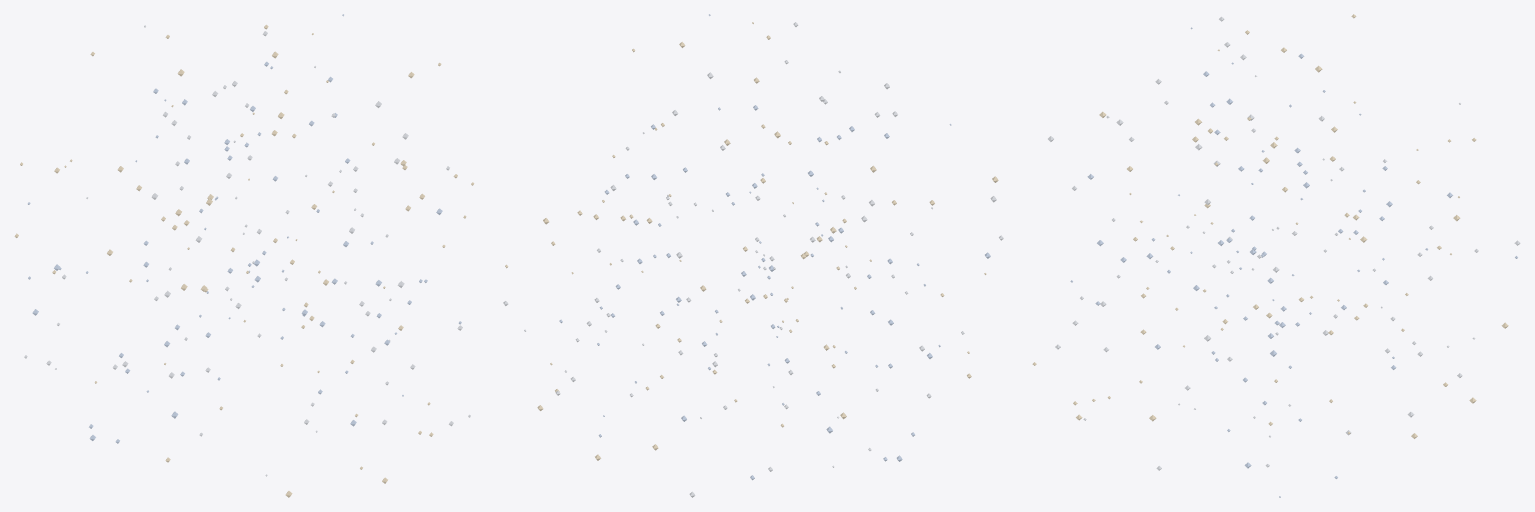
The picture shows the model from 3 angles, left to right: view 1: azimuth 30°, elevation 25°; view 2: azimuth 150°, elevation 25°; view 3: azimuth 270°, elevation 25°; orthographic projection. The views are drawn at different scales.
Bounding box in the file's own units: 4.54 × 4.58 × 4.93.
